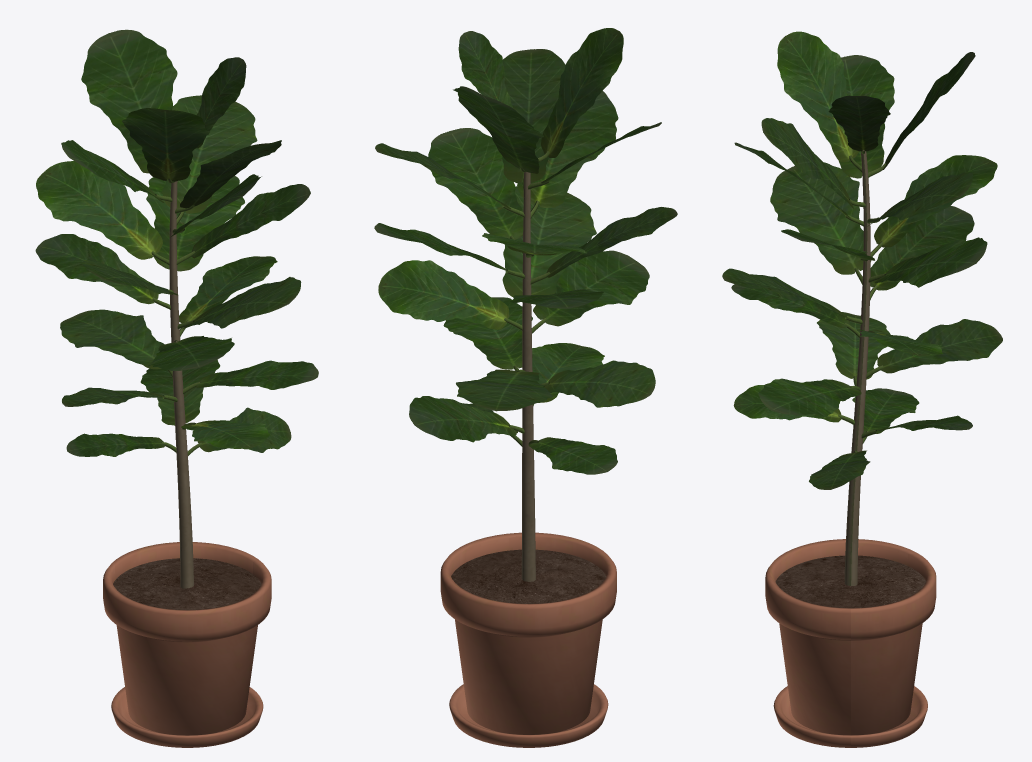
The model's file is ficus_lyrata_120.glb.
The picture shows the model from 3 angles, left to right: view 1: azimuth 30°, elevation 25°; view 2: azimuth 150°, elevation 25°; view 3: azimuth 270°, elevation 25°; orthographic projection. The views are drawn at different scales.
Visible parts, largest first — view 1: ficus_lyrata_120; view 2: ficus_lyrata_120; view 3: ficus_lyrata_120.
Boxes of the visible parts, x1,y1,x2,y2 form: ficus_lyrata_120: (35,29,318,747); ficus_lyrata_120: (374,28,677,747); ficus_lyrata_120: (722,31,1002,747).
Size of the model in its own units: 0.5 by 1.2 by 0.5073.
3 materials, 3 textured.
